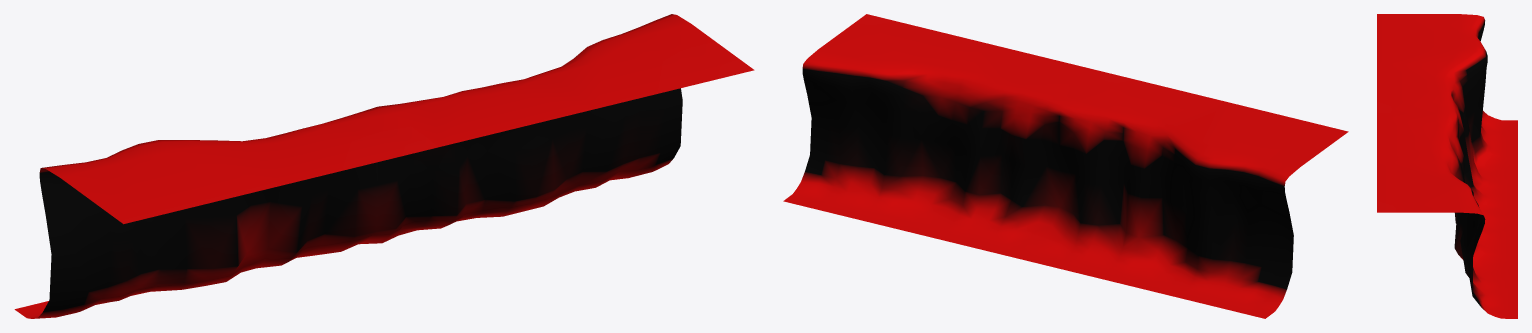
The model's file is GroundCliff02D 1M Background.fbx.
3 renders of one model, left to right at view 1: azimuth 30°, elevation 25°; view 2: azimuth 150°, elevation 25°; view 3: azimuth 270°, elevation 25°, orthographic. The views are drawn at different scales.
Visible parts, largest first — view 1: GroundCliff02D 1M Background; view 2: GroundCliff02D 1M Background; view 3: GroundCliff02D 1M Background.
Boxes of the visible parts, left/top/right/bottom form: GroundCliff02D 1M Background: left=14, top=14, right=754, bottom=318; GroundCliff02D 1M Background: left=783, top=14, right=1348, bottom=318; GroundCliff02D 1M Background: left=1377, top=14, right=1517, bottom=318.
Size of the model in its own units: 4 by 1 by 1.2.
